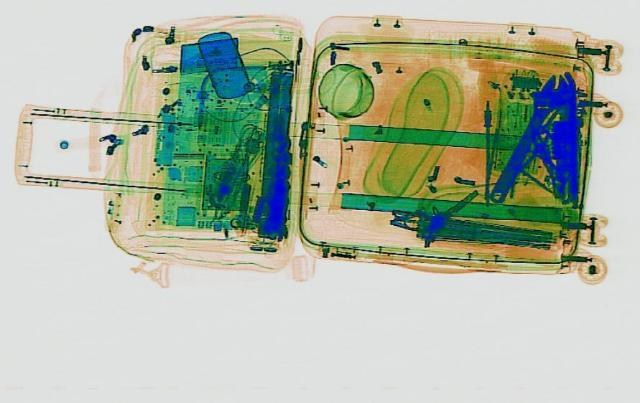Wrench: (473, 70, 581, 205)
